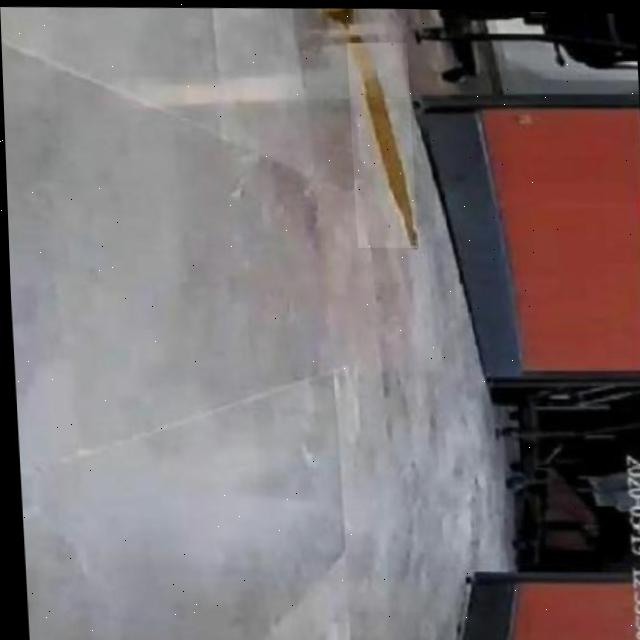spillage: (347, 40, 414, 244), (322, 6, 349, 21)
